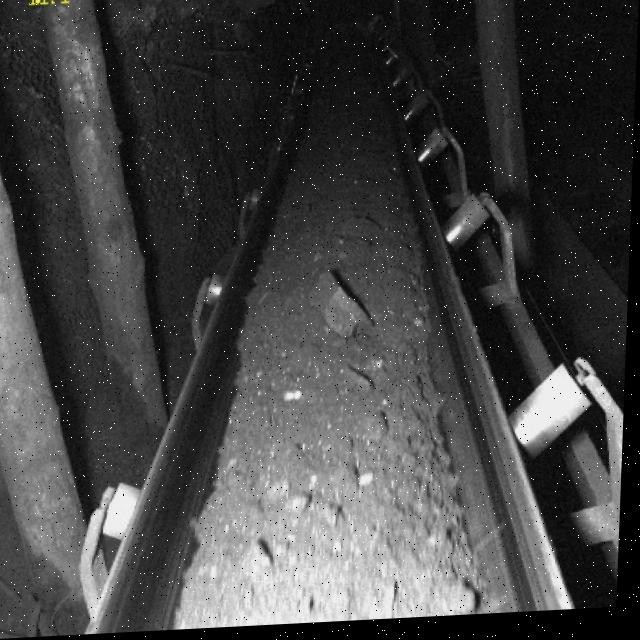large_sized_coal: (313, 271, 378, 343)
